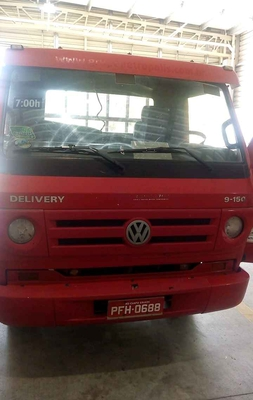Frontal Caminhao: (1, 43, 253, 318)
